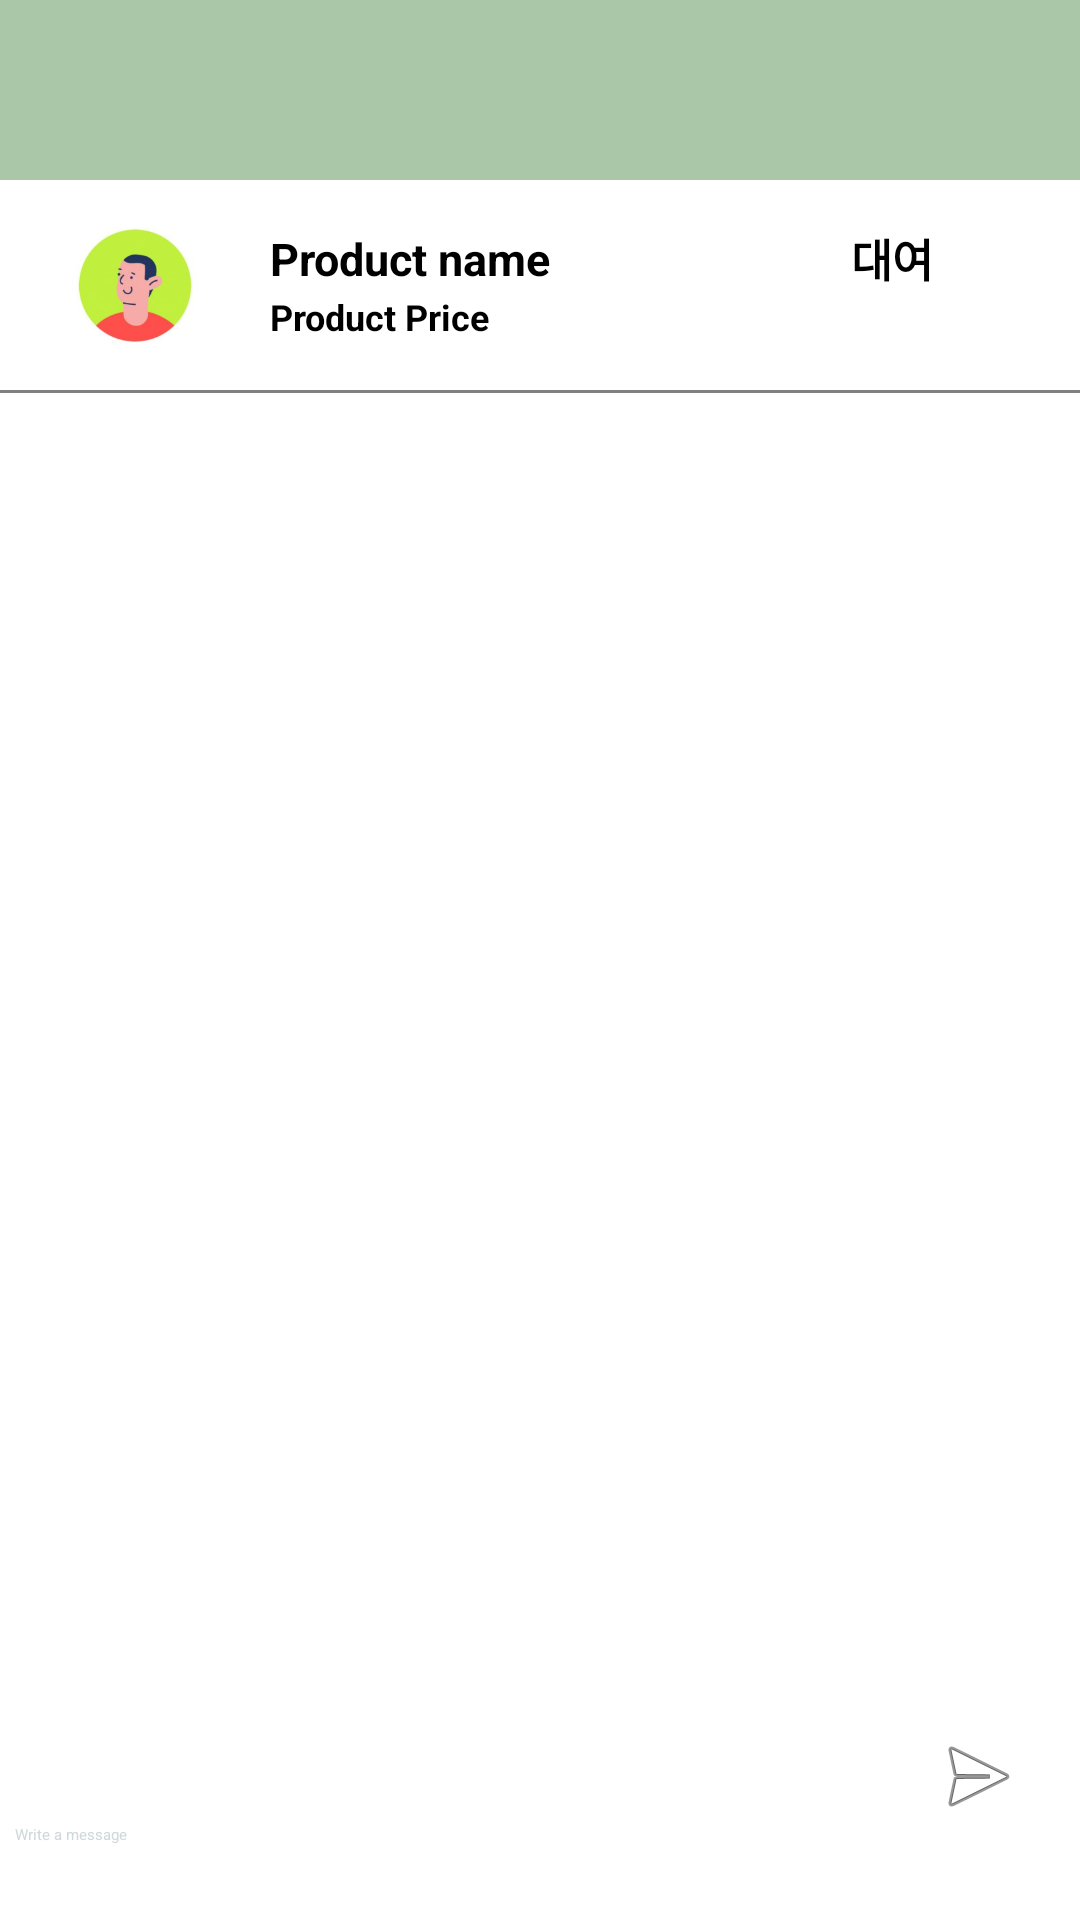

Named icons in this screenshot (1080 x 1920) and their centers, (x=x, y=y):
profile: (x=135, y=285)
send: (x=979, y=1776)
